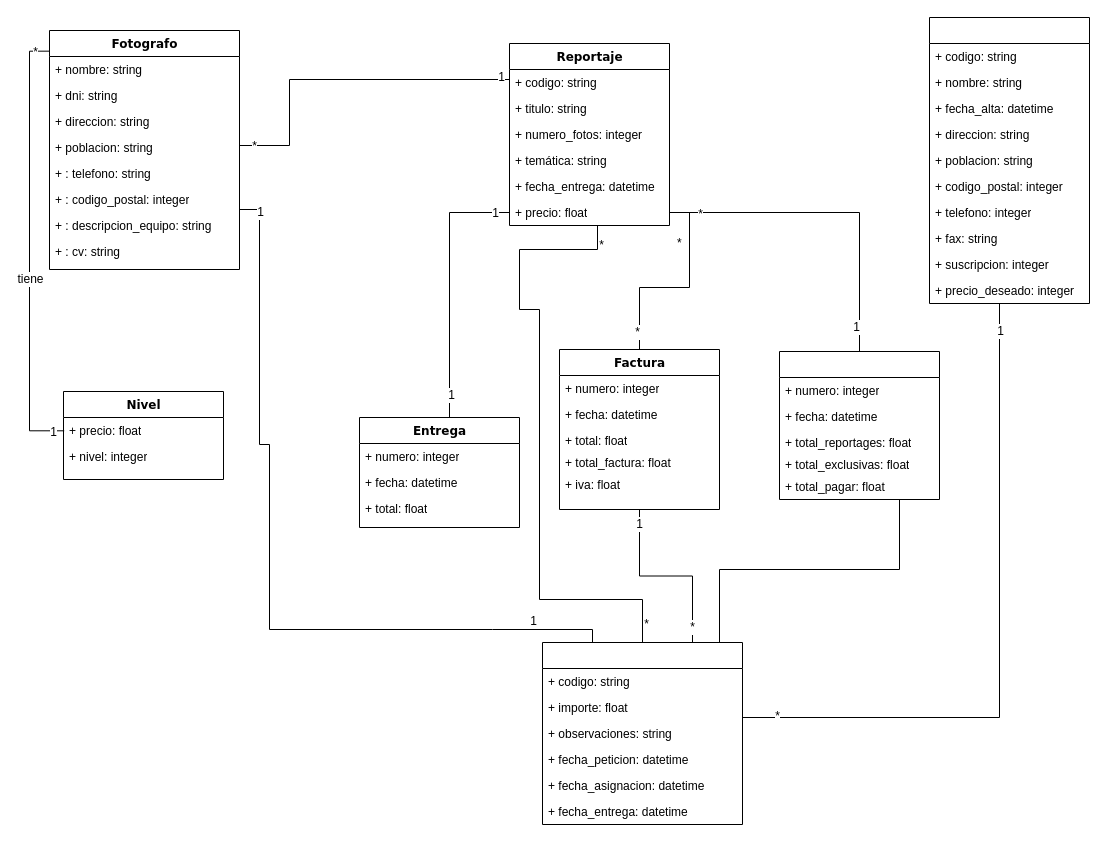
Some shapes in this 1107 by 845 pixel diagram are drawn without their labels. The box of each missing label's shape, as (x1, y1, x2, y2) in pixels:
Cobro: (778, 350, 940, 500)
Editorial: (928, 16, 1090, 304)
Exclusiva: (542, 642, 742, 824)
